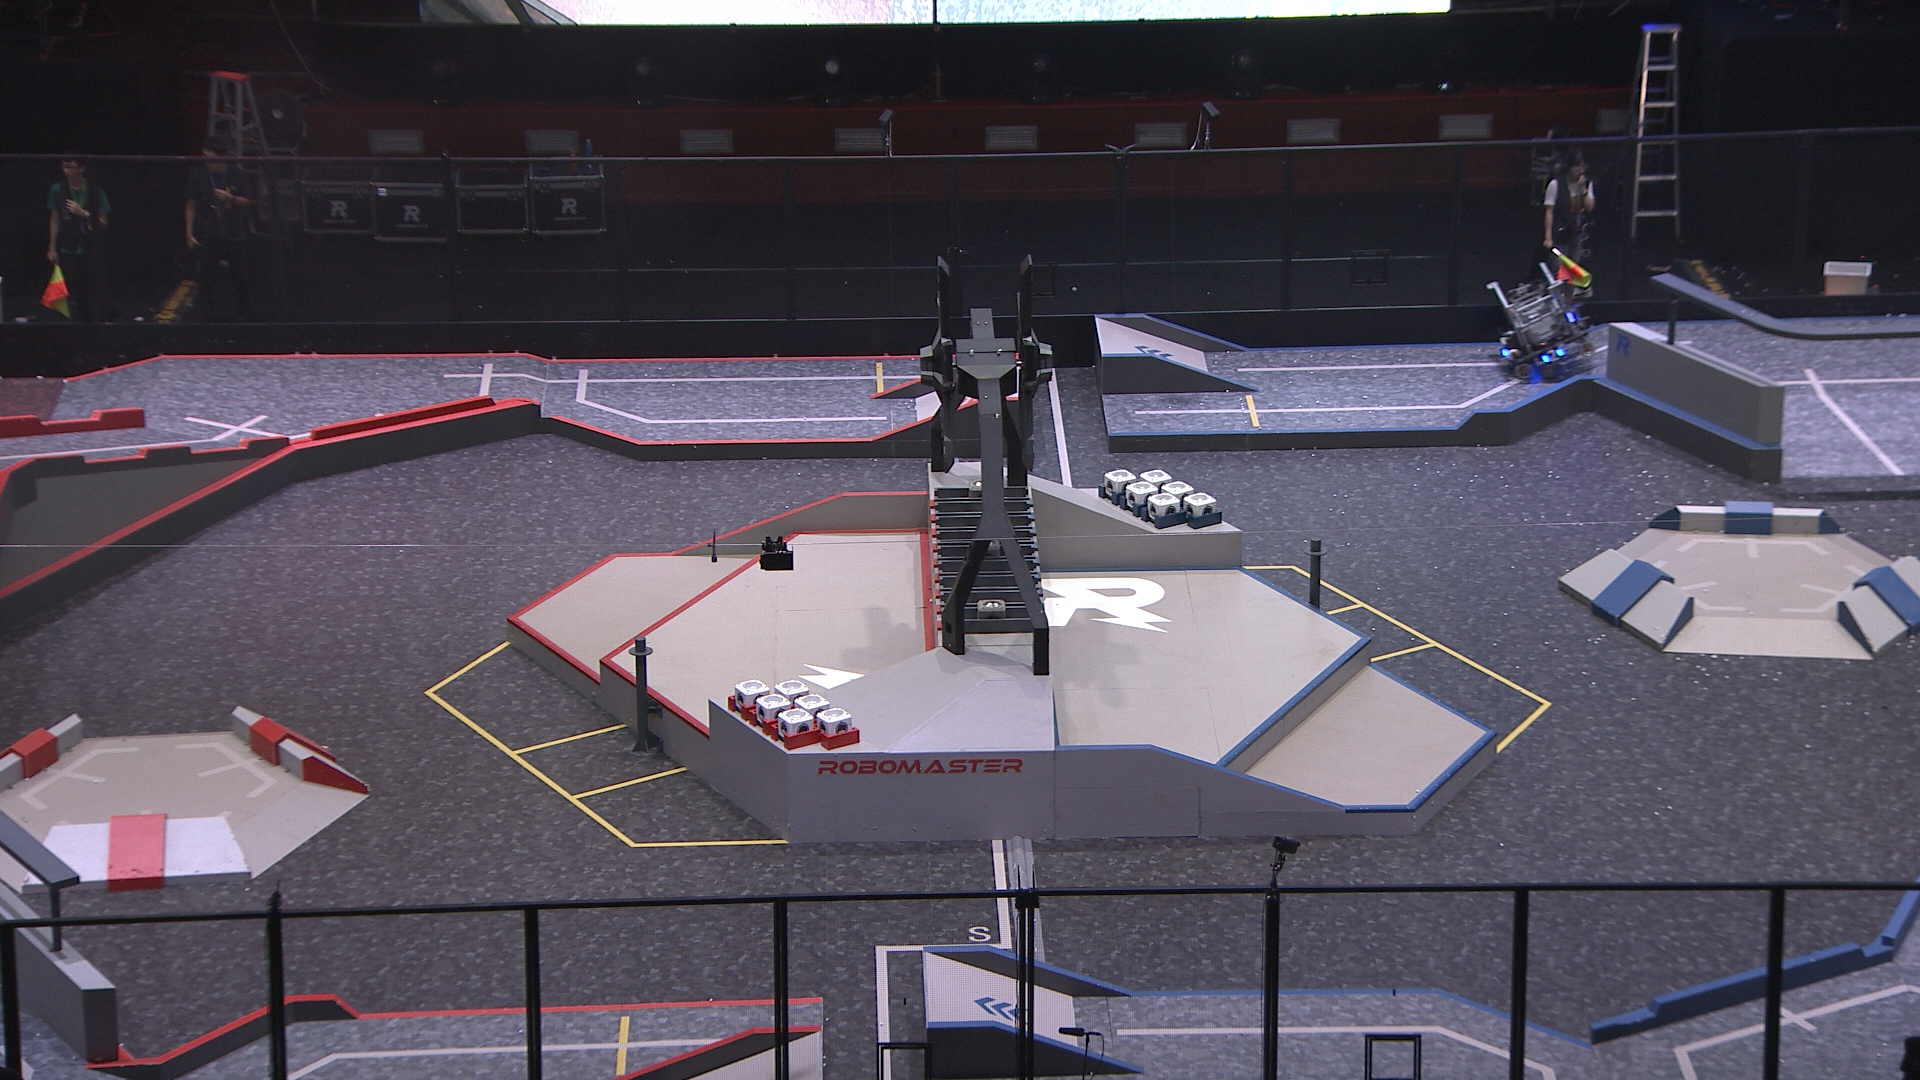armor: (1538, 347, 1567, 365)
car: (1485, 264, 1596, 381)
